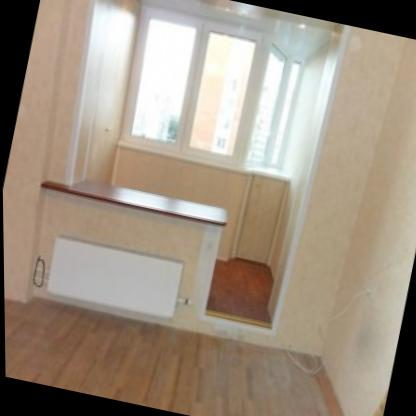Window: (244, 40, 331, 178), (180, 23, 259, 159), (120, 11, 200, 143)
